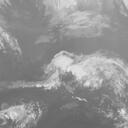cyclone: (43, 49, 110, 94)
